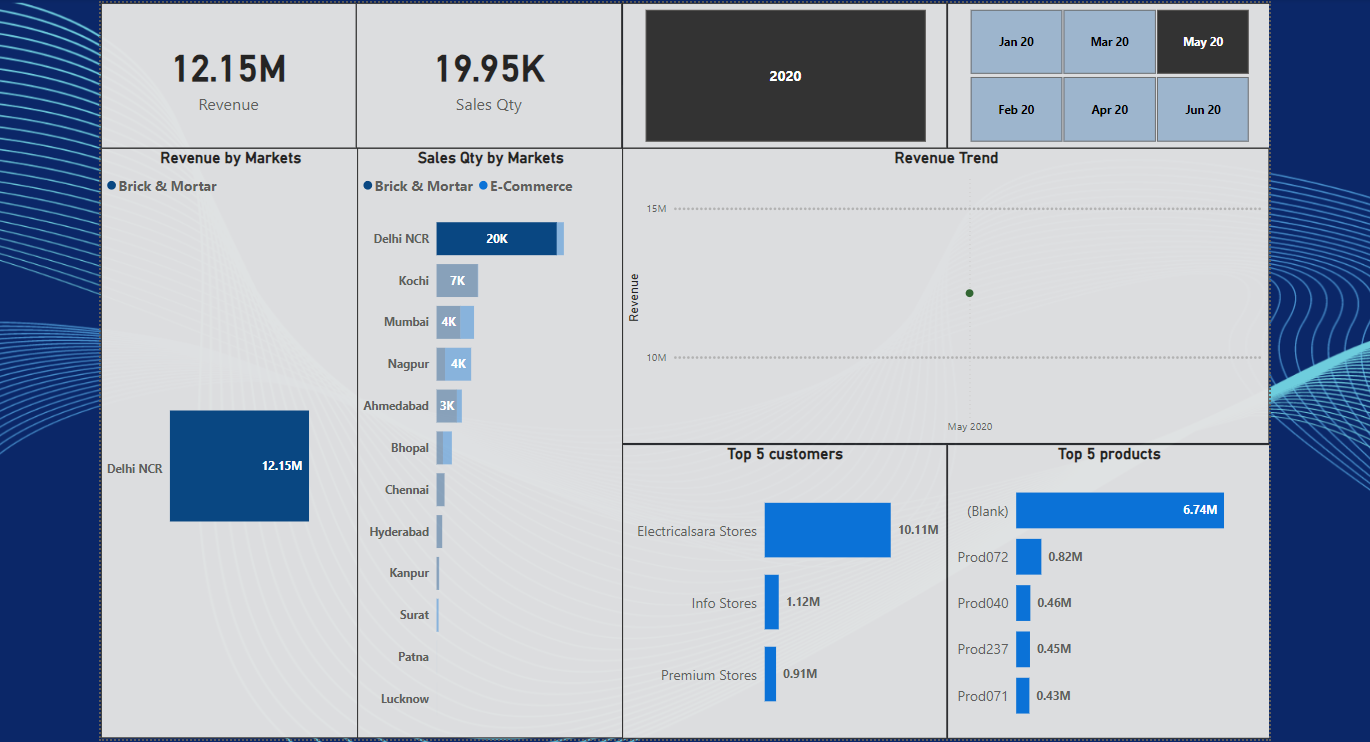

The dashboard page shown, as its layout file describes it:
{"tool":"powerbi","page":{"name":"Page 1","canvas":[1350,850],"ordinal":0},"visuals":[{"type":"card","fields":{"Values":["BaseMeasures.Revenue"]},"box":[0,0,295.2,167.9],"z":0},{"type":"card","fields":{"Values":["BaseMeasures.Sales Qty"]},"box":[294.7,0,307.5,168],"z":1000},{"type":"barChart","title":"Revenue by Markets","fields":{"Y":["BaseMeasures.Revenue"],"Category":["sales markets.markets_name"],"Series":["sales customers.customer_type"]},"box":[0,167.9,298.1,681.7],"z":2000},{"type":"barChart","title":"Sales Qty by Markets","fields":{"Y":["BaseMeasures.Sales Qty"],"Category":["sales markets.markets_name"],"Series":["sales customers.customer_type"]},"box":[295.2,167.9,306.8,681.7],"z":3000},{"type":"slicer","fields":{"Values":["sales date.year"]},"box":[602.1,0,374.8,167.9],"z":4000},{"type":"slicer","fields":{"Values":["sales date.cy_date"]},"box":[976.7,0,373,168],"z":5000},{"type":"barChart","title":"Top 5 customers","fields":{"Y":["BaseMeasures.Revenue"],"Category":["sales customers.custmer_name"]},"box":[602.1,509.4,374.8,340.1],"z":6000},{"type":"barChart","title":"Top 5 products","fields":{"Y":["BaseMeasures.Revenue"],"Category":["sales products.product_code"]},"box":[976.7,509.7,373,340.3],"z":7000},{"type":"lineChart","title":"Revenue Trend","fields":{"Y":["BaseMeasures.Revenue"],"Category":["sales date.cy_date"]},"box":[602.3,168,747.5,341.7],"z":8000}]}

Visuals, with their boxes in screenshot pixels (x1, y1, x2, y2):
card - BaseMeasures.Revenue: 100, 0, 354, 145
card - BaseMeasures.Sales Qty: 354, 0, 618, 145
"Revenue by Markets" barChart: 100, 145, 357, 731
"Sales Qty by Markets" barChart: 354, 145, 618, 731
slicer - sales date.year: 618, 0, 941, 145
slicer - sales date.cy_date: 941, 0, 1262, 145
"Top 5 customers" barChart: 618, 439, 941, 731
"Top 5 products" barChart: 941, 439, 1262, 732
"Revenue Trend" lineChart: 618, 145, 1262, 439
